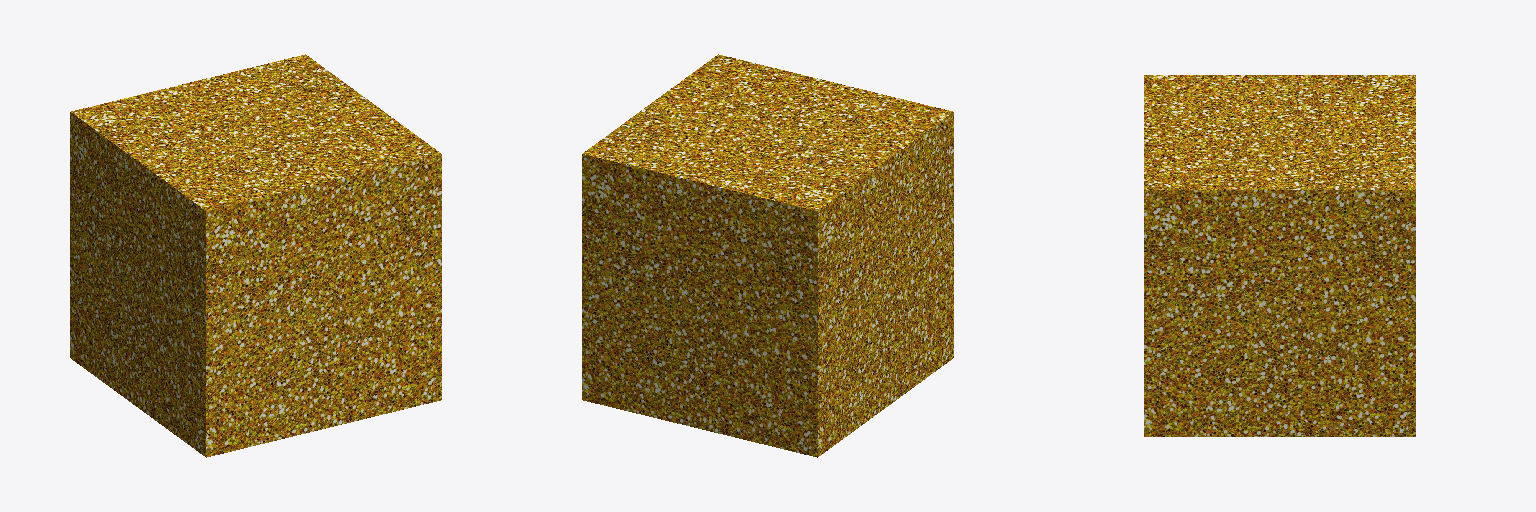
The picture shows the model from 3 angles: view 1: azimuth 30°, elevation 25°; view 2: azimuth 150°, elevation 25°; view 3: azimuth 270°, elevation 25°; orthographic projection.
Parts seen in each view (by area): view 1: Box001; view 2: Box001; view 3: Box001.
Part boxes in pixels (left/top/right/bottom): Box001: left=70, top=54, right=441, bottom=457; Box001: left=582, top=54, right=953, bottom=457; Box001: left=1144, top=75, right=1415, bottom=436.
Bounding box in the file's own units: 1 × 1 × 1.
Materials: 1 (1 with a texture image).